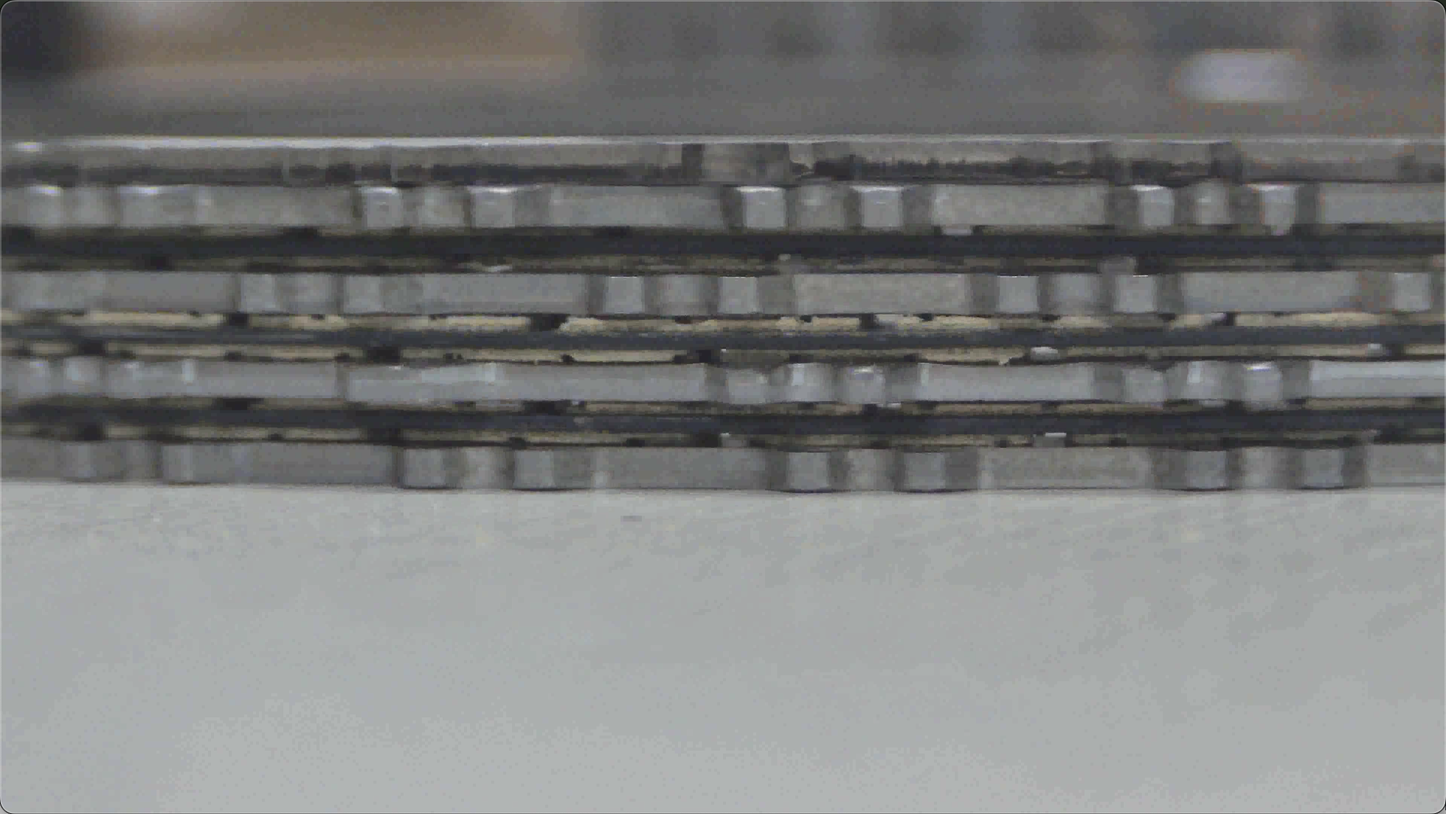Black metal plate: (0, 437, 1445, 491), (4, 135, 1443, 187)
shiney metal plate: (107, 0, 1428, 615), (25, 130, 1403, 630), (0, 181, 1445, 234)
spacer: (19, 219, 1370, 733), (31, 167, 1408, 624), (29, 140, 1446, 358)
